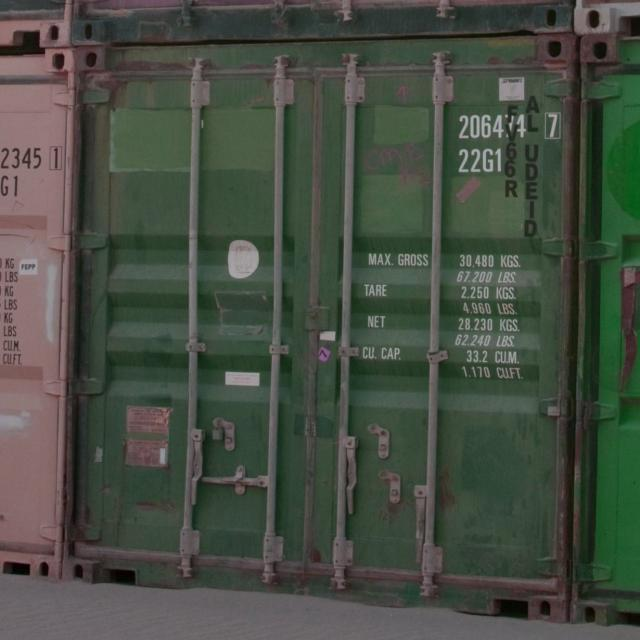ISO: (454, 144, 504, 178)
container_number: (454, 114, 568, 138)
